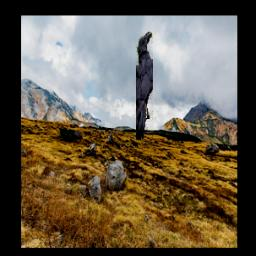Crow: (136, 33, 153, 141)
